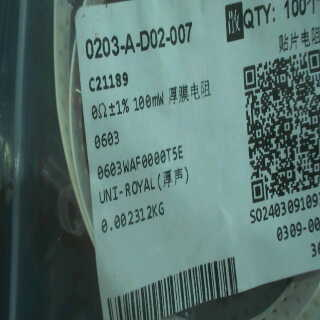0R: (87, 89, 168, 145)
